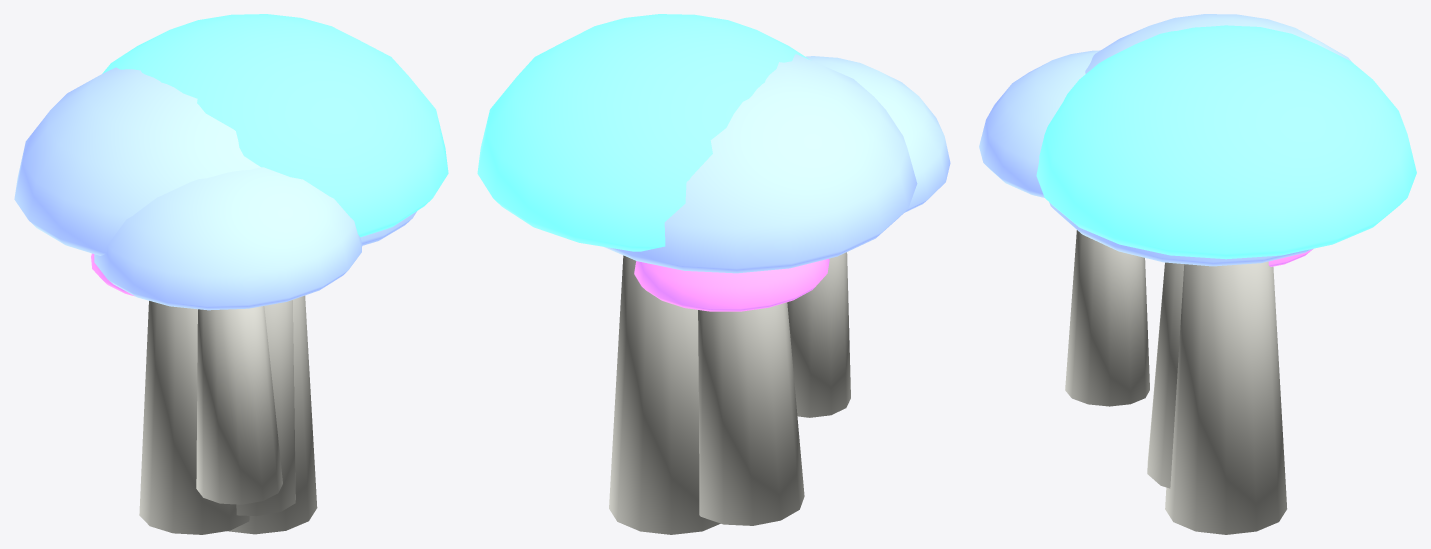
File: mushroom_01.glb
3 renders of one model, left to right at view 1: azimuth 30°, elevation 25°; view 2: azimuth 150°, elevation 25°; view 3: azimuth 270°, elevation 25°, orthographic. The views are drawn at different scales.
Visible parts, largest first — view 1: mushroom_a_0; view 2: mushroom_a_0; view 3: mushroom_a_0.
Boxes of the visible parts, x1,y1,x2,y2 form: mushroom_a_0: [14, 14, 448, 534]; mushroom_a_0: [477, 14, 950, 534]; mushroom_a_0: [979, 14, 1416, 534].
Size of the model in its own units: 0.5505 by 0.6387 by 0.5502.
